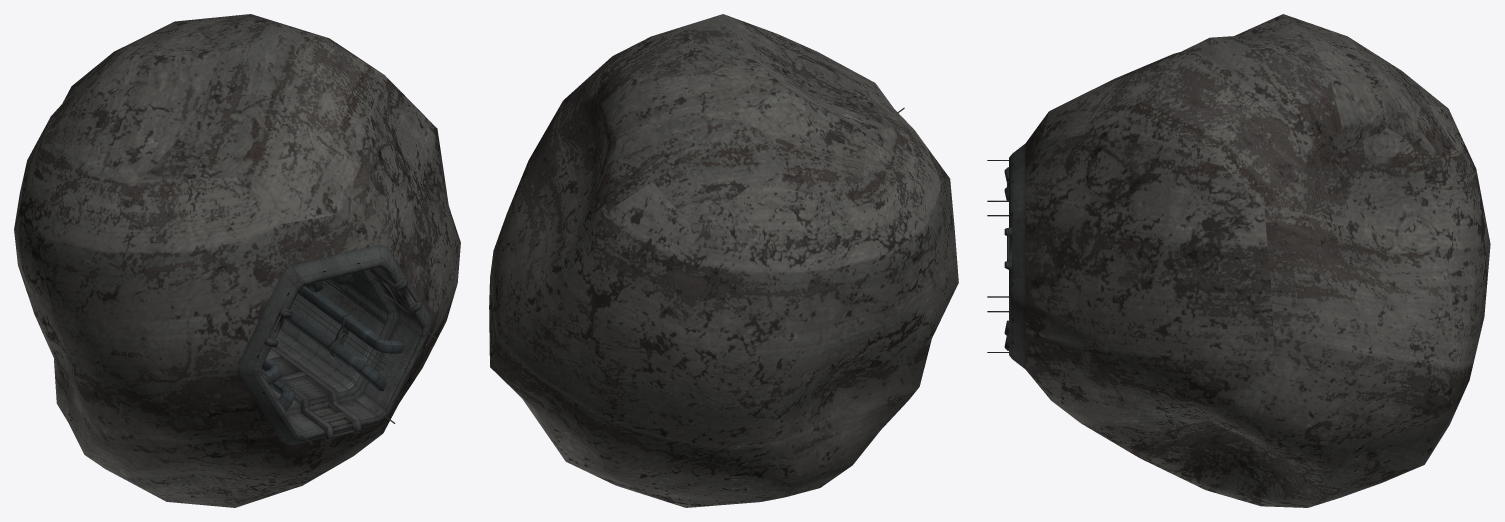
The model's file is hermit.glb.
3 views of the same model, side by side, from view 1: azimuth 30°, elevation 25°; view 2: azimuth 150°, elevation 25°; view 3: azimuth 270°, elevation 25° (orthographic). The views are drawn at different scales.
Visible parts, largest first — view 1: griff_rock_hermit_rock, griff_rock_hermit_tunnel, griff_rock_hermit_pipes, griff_rock_hermit_tunnel_extras; view 2: griff_rock_hermit_rock; view 3: griff_rock_hermit_rock, griff_rock_hermit_tunnel, griff_rock_hermit_tunnel_extras.
Part boxes in pixels (x1,y1,x2,y2): griff_rock_hermit_rock: (14, 14, 460, 507); griff_rock_hermit_tunnel: (238, 244, 431, 445); griff_rock_hermit_pipes: (262, 273, 405, 411); griff_rock_hermit_tunnel_extras: (260, 266, 436, 443); griff_rock_hermit_rock: (489, 14, 958, 507); griff_rock_hermit_rock: (1025, 14, 1490, 507); griff_rock_hermit_tunnel: (1009, 143, 1025, 369); griff_rock_hermit_tunnel_extras: (987, 160, 1012, 352).
Size of the model in its own units: 9.16 by 10.04 by 9.76.
Materials: 5 (5 with a texture image).
